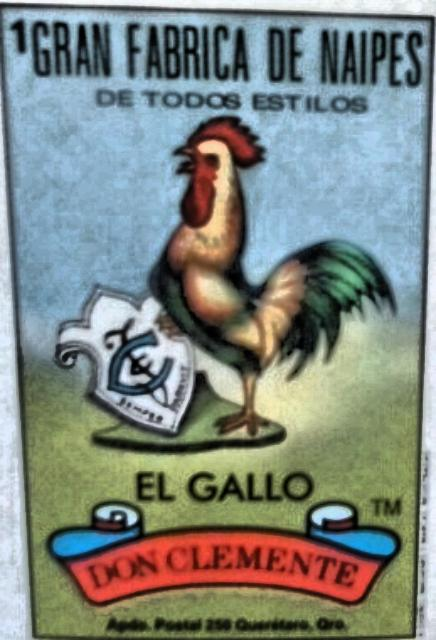Gallo: (1, 6, 434, 638)
